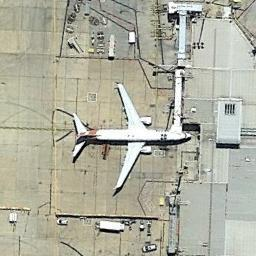Airplane: (62, 80, 198, 198)
